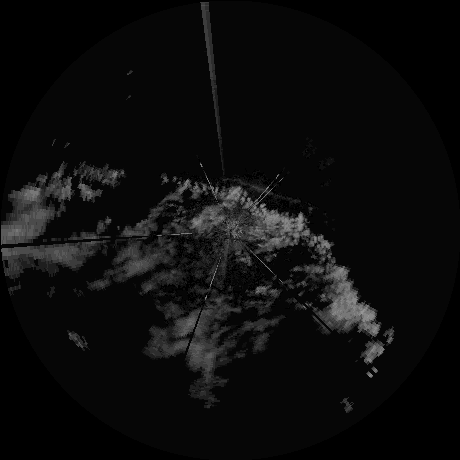frontgust: (227, 175, 305, 204)
